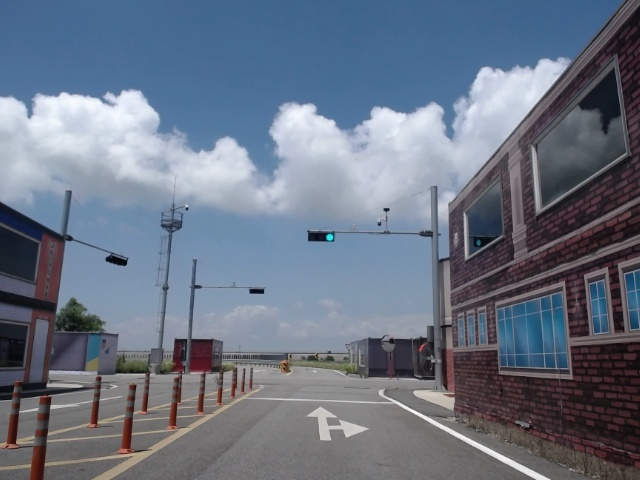green_3: (308, 232, 334, 241)
